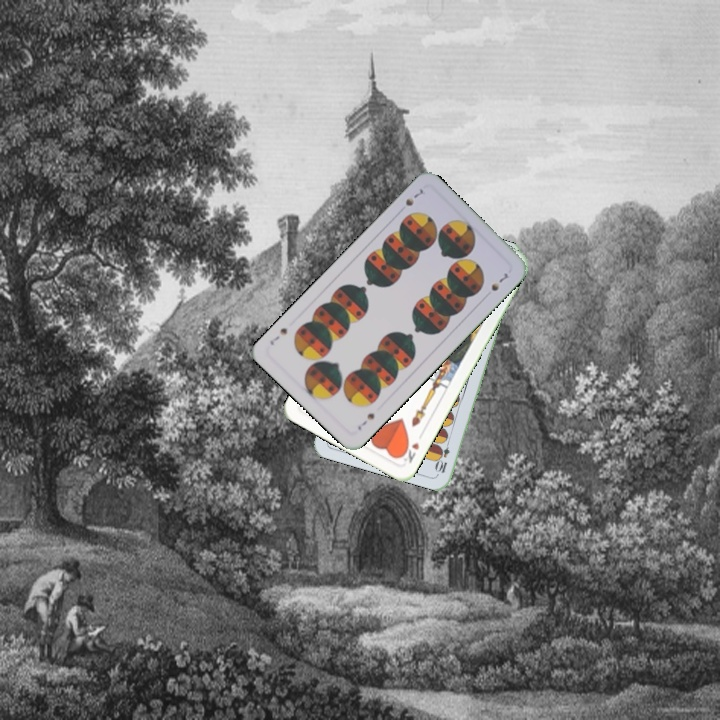E10: (433, 435, 453, 476)
HK: (397, 438, 422, 466)
S7: (401, 185, 427, 209), (353, 409, 377, 433)
